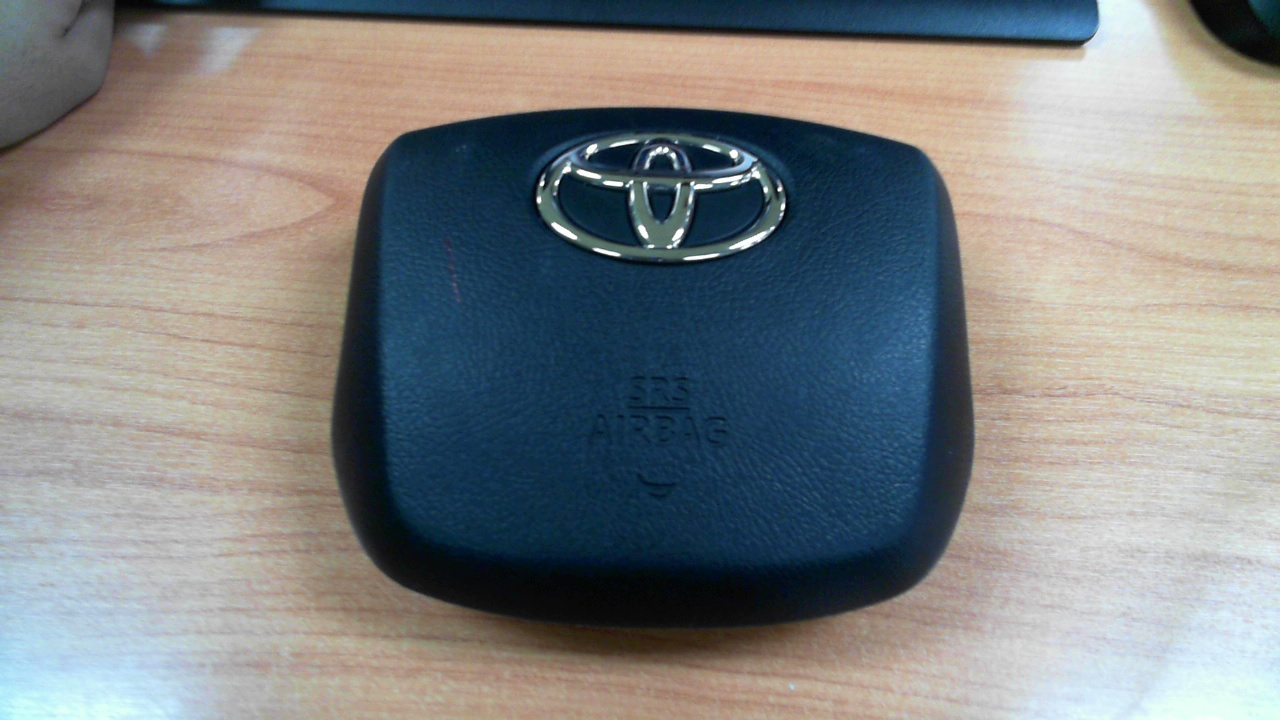Airbag: (332, 107, 974, 630)
Toyota: (536, 131, 787, 263)
